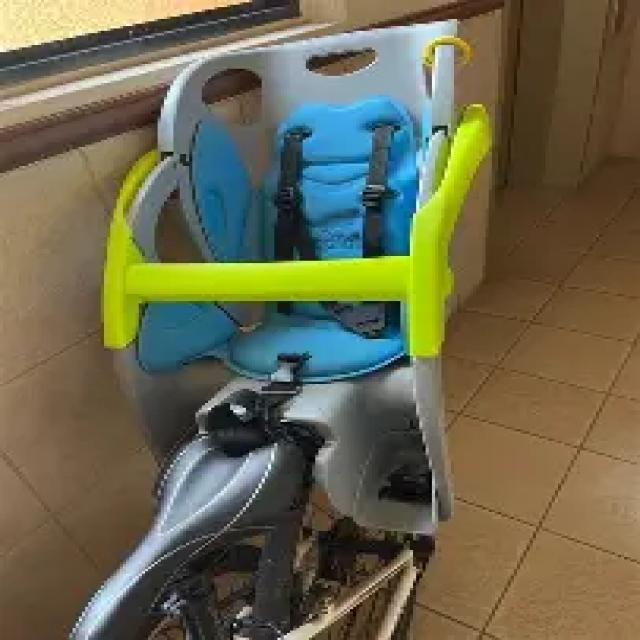childseat: (92, 15, 502, 537)
